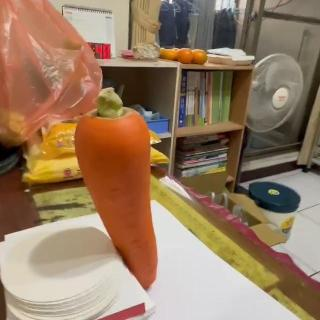carrot: (75, 88, 165, 290)
